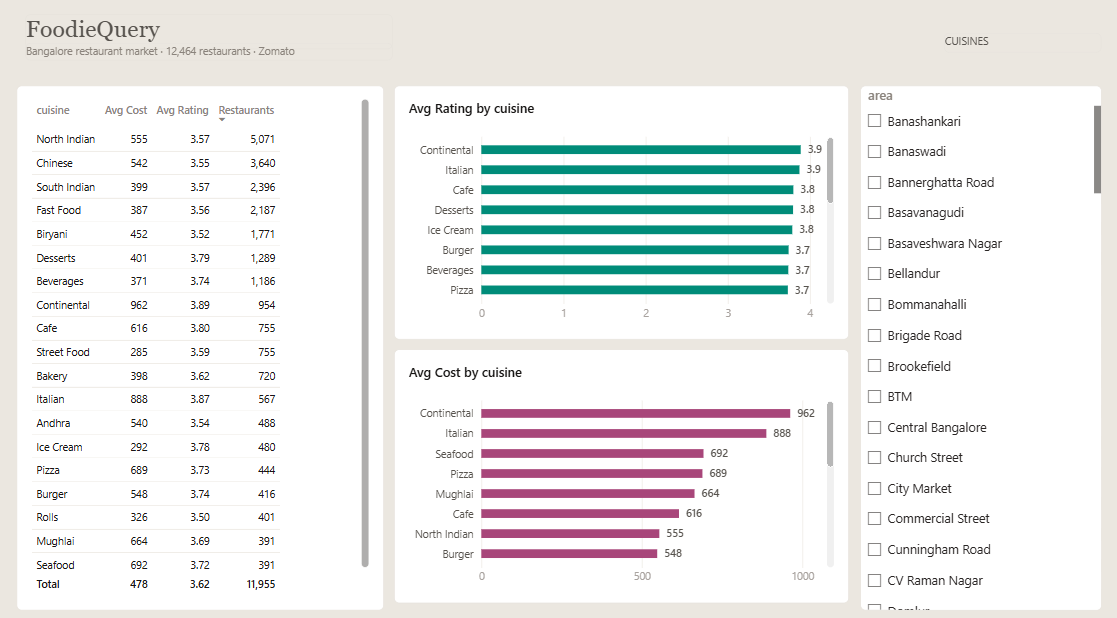

The dashboard page shown, as its layout file describes it:
{"tool":"powerbi","page":{"name":"Cuisines","canvas":[1280,720],"ordinal":1},"visuals":[{"type":"tableEx","fields":{"Values":["vw_bi_cuisines.cuisine","vw_bi_restaurants.Avg Cost","vw_bi_restaurants.Avg Rating","vw_bi_restaurants.Restaurants"]},"box":[20,100,420,600],"z":0},{"type":"clusteredBarChart","fields":{"Category":["vw_bi_cuisines.cuisine"],"Y":["vw_bi_restaurants.Avg Rating"]},"box":[452,100,520,290],"z":1000},{"type":"clusteredBarChart","fields":{"Category":["vw_bi_cuisines.cuisine"],"Y":["vw_bi_restaurants.Avg Cost"]},"box":[452,402,520,290],"z":2000},{"type":"slicer","fields":{"Values":["vw_bi_restaurants.area"]},"box":[984,100,276,600],"z":3000},{"type":"textbox","box":[30,18,420,40],"z":4000},{"type":"textbox","box":[30,52,420,20],"z":5000},{"type":"textbox","box":[1080,40,180,22],"z":6000}]}

Visuals, with their boxes in screenshot pixels (x1, y1, x2, y2), scaled from the page's 1280x720 canvas onto the 1117x618 screenshot:
tableEx - vw_bi_cuisines.cuisine x vw_bi_restaurants.Avg Cost: (17,86,384,601)
clusteredBarChart - vw_bi_cuisines.cuisine x vw_bi_restaurants.Avg Rating: (394,86,848,335)
clusteredBarChart - vw_bi_cuisines.cuisine x vw_bi_restaurants.Avg Cost: (394,345,848,594)
slicer - vw_bi_restaurants.area: (859,86,1100,601)
textbox: (26,15,393,50)
textbox: (26,45,393,62)
textbox: (942,34,1100,53)
